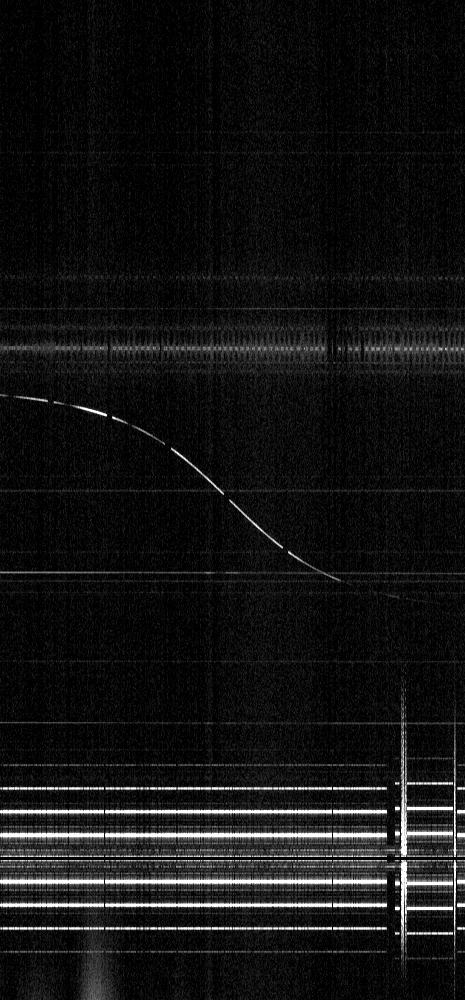signal: (0, 0, 464, 999)
